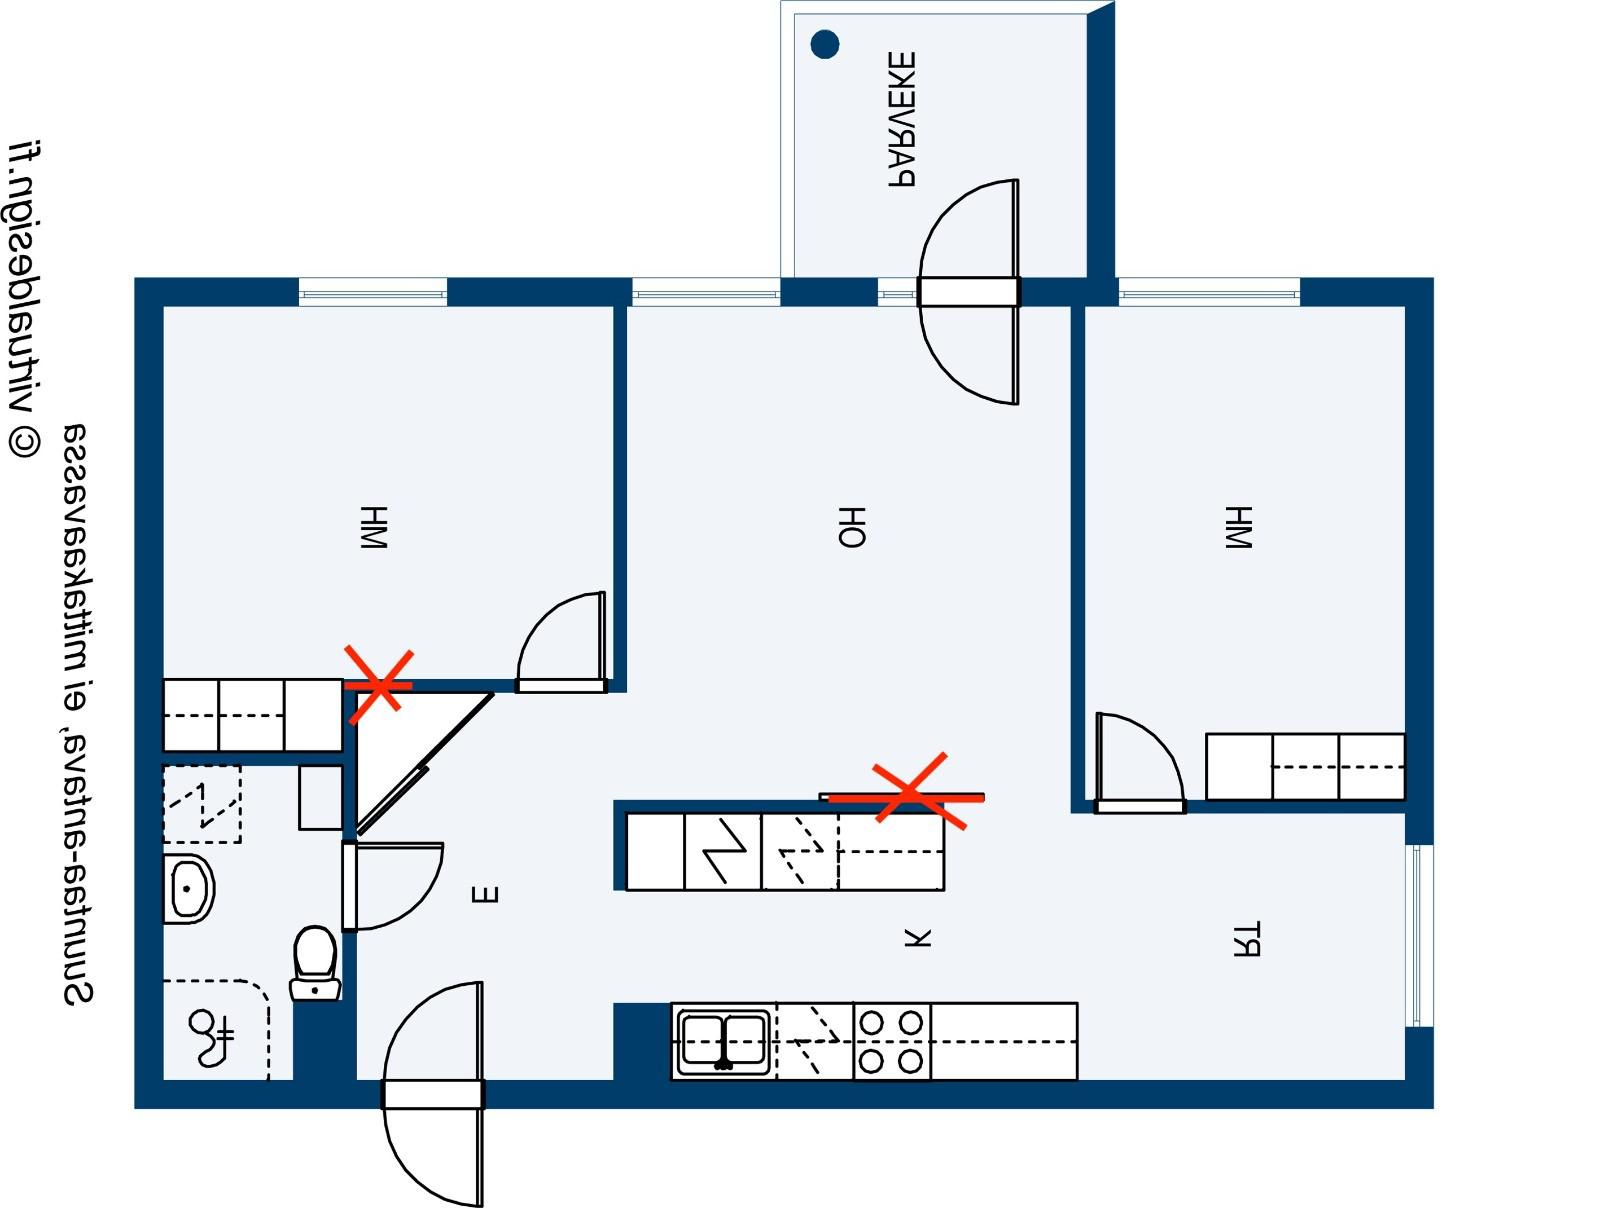bathroom: (160, 768, 339, 1081)
door: (914, 173, 1030, 306), (387, 978, 491, 1112), (917, 286, 1021, 411), (377, 1085, 482, 1203), (511, 586, 610, 699), (331, 843, 444, 936), (1092, 708, 1188, 816)
perimeter: (133, 275, 1434, 1112)
window: (1400, 829, 1440, 1043), (1110, 272, 1317, 311), (285, 270, 457, 316), (618, 270, 792, 310), (867, 274, 921, 311)
